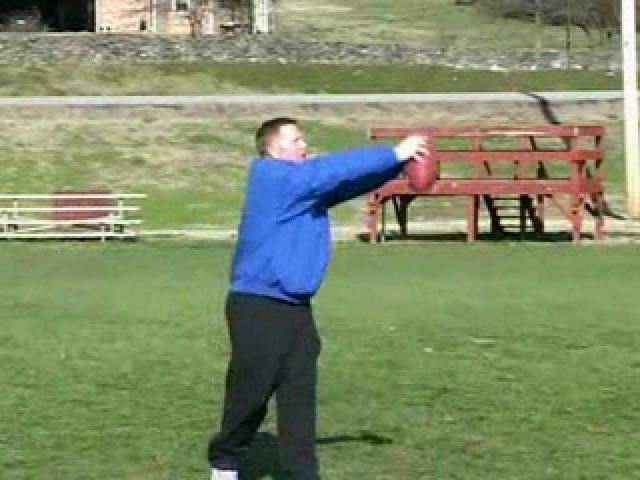I: (203, 112, 437, 480)
